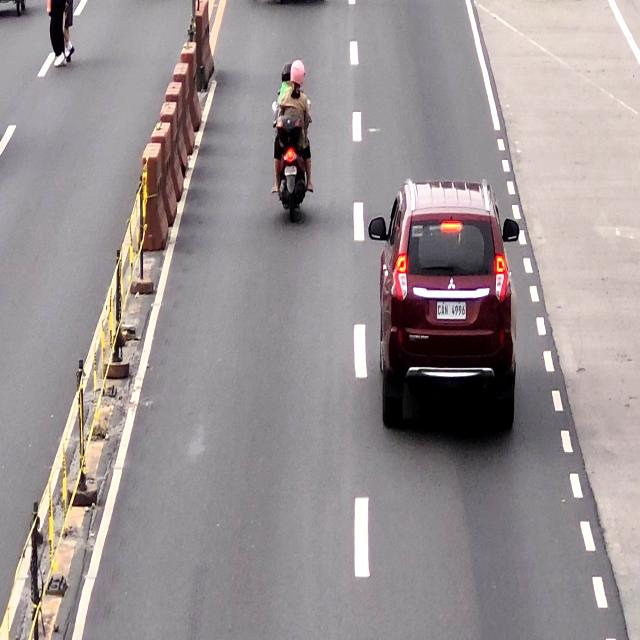Car: (379, 173, 522, 431)
License-Plate: (437, 302, 468, 328)
Motorcycle: (276, 51, 308, 215)
